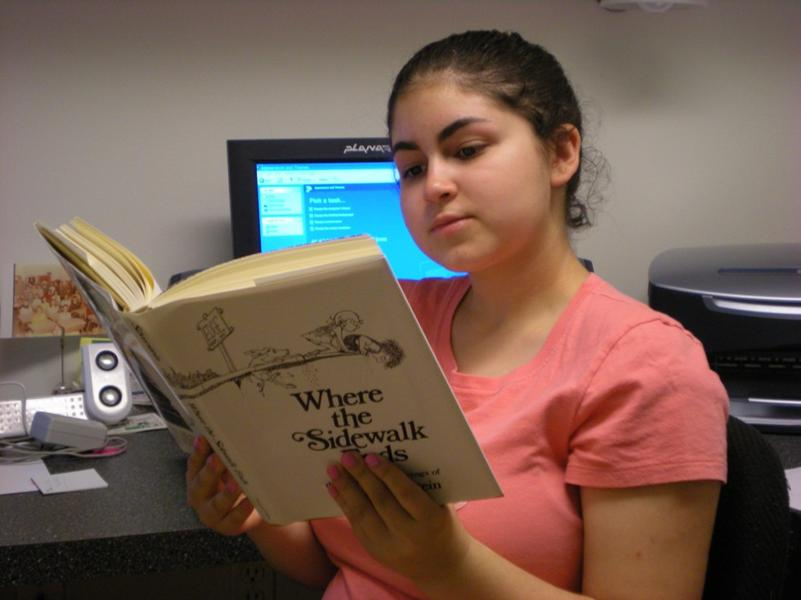person: (182, 31, 735, 600)
